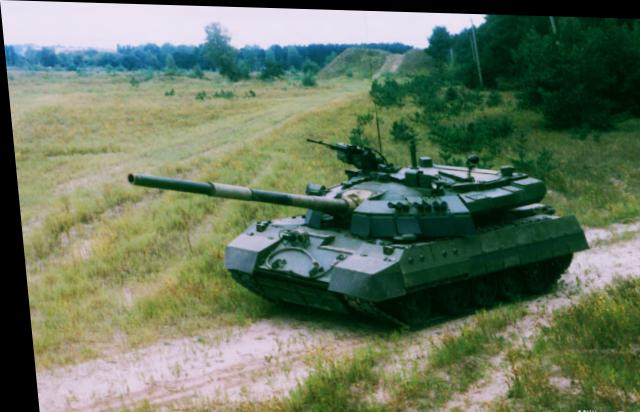tank: (223, 159, 584, 301)
